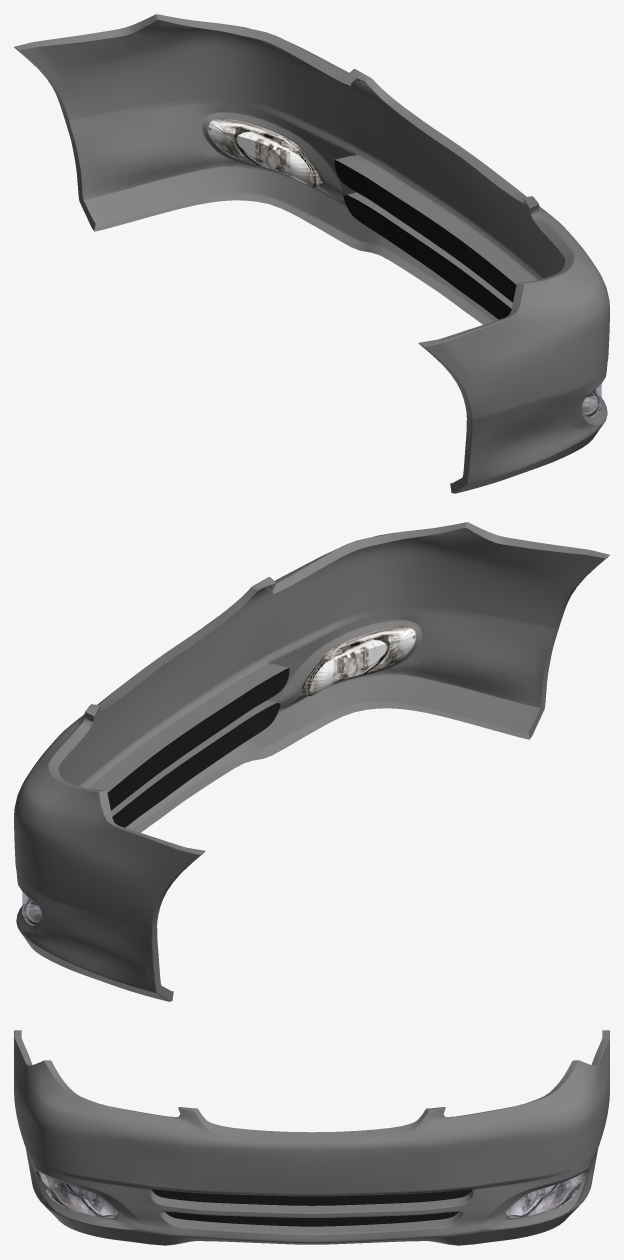
The picture shows the model from 3 angles, top to bottom: view 1: azimuth 30°, elevation 25°; view 2: azimuth 150°, elevation 25°; view 3: azimuth 270°, elevation 25°; orthographic projection. The views are drawn at different scales.
Parts seen in each view (by area): view 1: Y174_021G_C_Y174_021G_C_3_DaS, Y174_021G_C_Y174_021G_C_5_D, Y174_021G_C_Y174_021G_C_3_DaS_E, Y174_021G_C_Y174_021G_C_2_N; view 2: Y174_021G_C_Y174_021G_C_3_DaS, Y174_021G_C_Y174_021G_C_5_D, Y174_021G_C_Y174_021G_C_3_DaS_E, Y174_021G_C_1_N_Y174_021G_C; view 3: Y174_021G_C_Y174_021G_C_3_DaS, Y174_021G_C_Y174_021G_C_5_D, Y174_021G_C_Y174_021G_C_3_DaS_E, Y174_021G_C_1_N_Y174_021G_C, Y174_021G_C_Y174_021G_C_2_N, Y174_021G_C_Y174_021G_C_4_DTaSI, Y174_021G_C_Y174_021G_C_6_DTaSI.
Boxes of the visible parts, box(x1,y1,x2,y2) form: Y174_021G_C_Y174_021G_C_3_DaS: box(14, 14, 609, 493); Y174_021G_C_Y174_021G_C_5_D: box(334, 160, 516, 319); Y174_021G_C_Y174_021G_C_3_DaS_E: box(15, 14, 608, 493); Y174_021G_C_Y174_021G_C_2_N: box(207, 118, 322, 187); Y174_021G_C_Y174_021G_C_3_DaS: box(14, 522, 609, 1001); Y174_021G_C_Y174_021G_C_5_D: box(107, 668, 289, 827); Y174_021G_C_Y174_021G_C_3_DaS_E: box(15, 522, 608, 1001); Y174_021G_C_1_N_Y174_021G_C: box(301, 626, 416, 695); Y174_021G_C_Y174_021G_C_3_DaS: box(14, 1030, 609, 1245); Y174_021G_C_Y174_021G_C_5_D: box(152, 1189, 471, 1226); Y174_021G_C_Y174_021G_C_3_DaS_E: box(14, 1030, 609, 1245); Y174_021G_C_1_N_Y174_021G_C: box(39, 1172, 118, 1219); Y174_021G_C_Y174_021G_C_2_N: box(505, 1172, 584, 1219); Y174_021G_C_Y174_021G_C_4_DTaSI: box(39, 1172, 118, 1219); Y174_021G_C_Y174_021G_C_6_DTaSI: box(505, 1172, 584, 1219).
Size of the model in its own units: 76.35 by 54.61 by 203.
